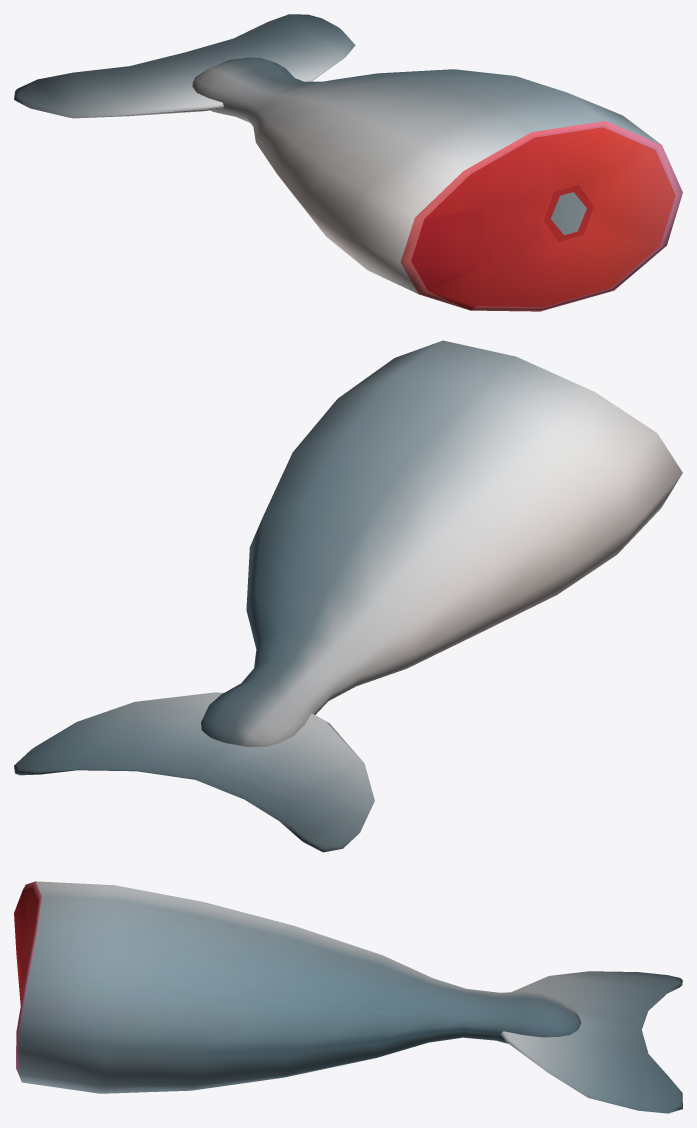
3 renders of one model, top to bottom at view 1: azimuth 30°, elevation 25°; view 2: azimuth 150°, elevation 25°; view 3: azimuth 270°, elevation 25°, orthographic. The views are drawn at different scales.
Visible parts, largest first — view 1: 10-1; view 2: 10-1; view 3: 10-1.
Boxes of the visible parts, box(x1,y1,x2,y2) form: 10-1: box(14, 14, 682, 311); 10-1: box(14, 340, 682, 852); 10-1: box(14, 881, 682, 1113).
Bounding box in the file's own units: 13.55 × 7.28 × 26.25.
